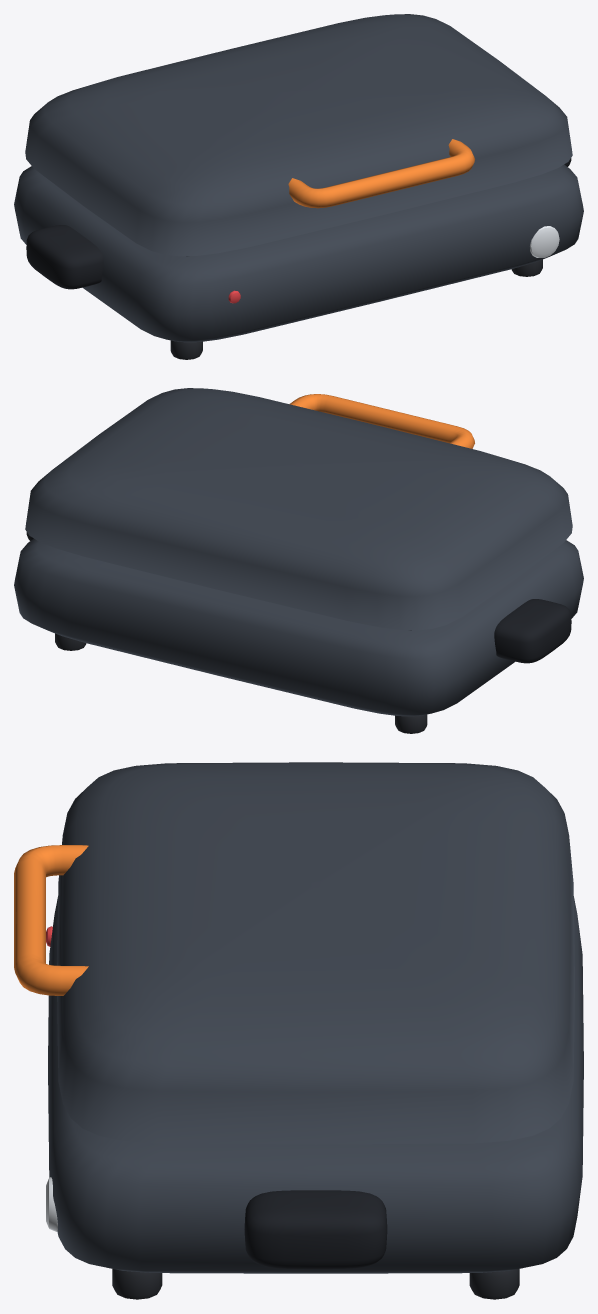
File: grill_bancada_grafite.glb
3 views of the same model, one above another, from view 1: azimuth 30°, elevation 25°; view 2: azimuth 150°, elevation 25°; view 3: azimuth 270°, elevation 25° (orthographic). The views are drawn at different scales.
Visible parts, largest first — view 1: tampa, grill_bancada_grafite; view 2: tampa, grill_bancada_grafite; view 3: tampa, grill_bancada_grafite.
Boxes of the visible parts, left/top/right/bottom form: tampa: left=25, top=14, right=572, bottom=256; grill_bancada_grafite: left=14, top=158, right=583, bottom=359; tampa: left=25, top=388, right=572, bottom=630; grill_bancada_grafite: left=14, top=532, right=583, bottom=733; tampa: left=14, top=762, right=574, bottom=1144; grill_bancada_grafite: left=46, top=896, right=583, bottom=1299.
Size of the model in its own units: 0.514 by 0.172 by 0.319.
Materials: 1 (1 with a texture image).
